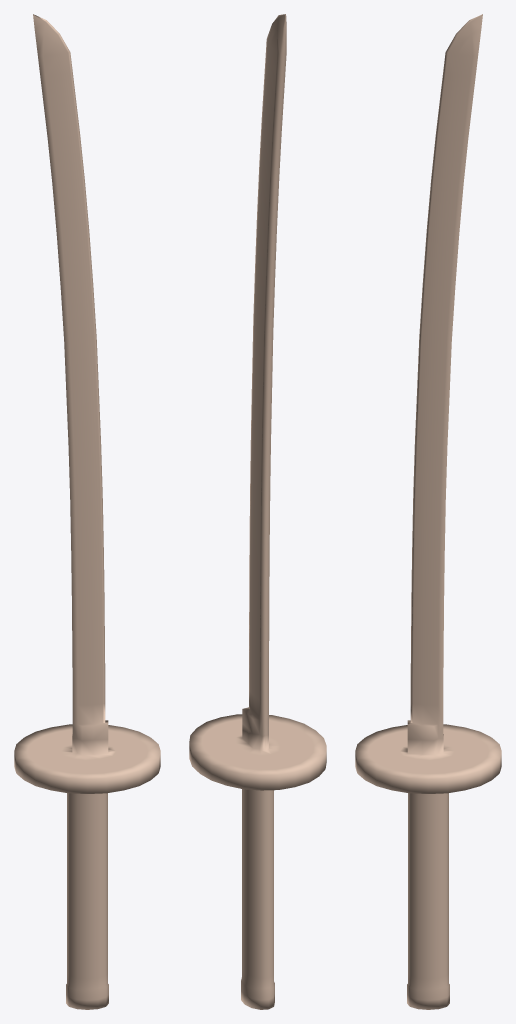
The model's file is Kata.fbx.
The picture shows the model from 3 angles, left to right: view 1: azimuth 90°, elevation 25°; view 2: azimuth 210°, elevation 25°; view 3: azimuth 270°, elevation 25°; orthographic projection.
Visible parts, largest first — view 1: Katana:katana; view 2: Katana:katana; view 3: Katana:katana.
Part boxes in pixels (bbox=[...]): Katana:katana: bbox=[14, 14, 160, 1009]; Katana:katana: bbox=[189, 14, 326, 1009]; Katana:katana: bbox=[355, 14, 501, 1009].
Size of the model in its own units: 13.23 by 110 by 14.78.
